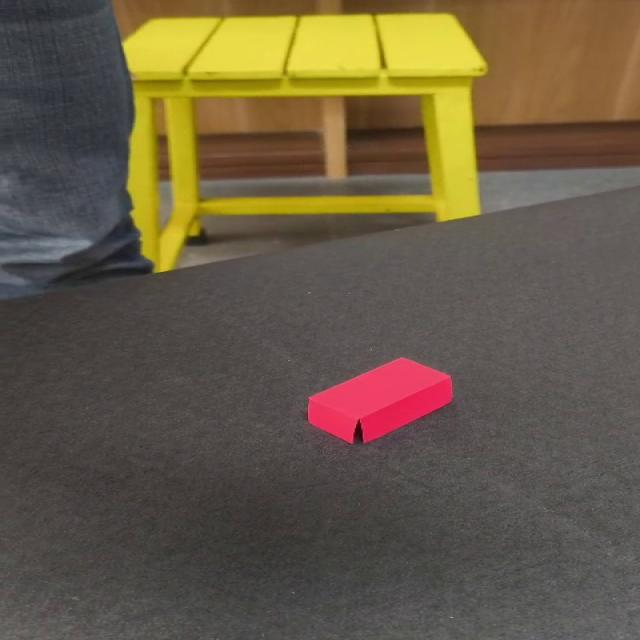red block: (306, 356, 454, 444)
